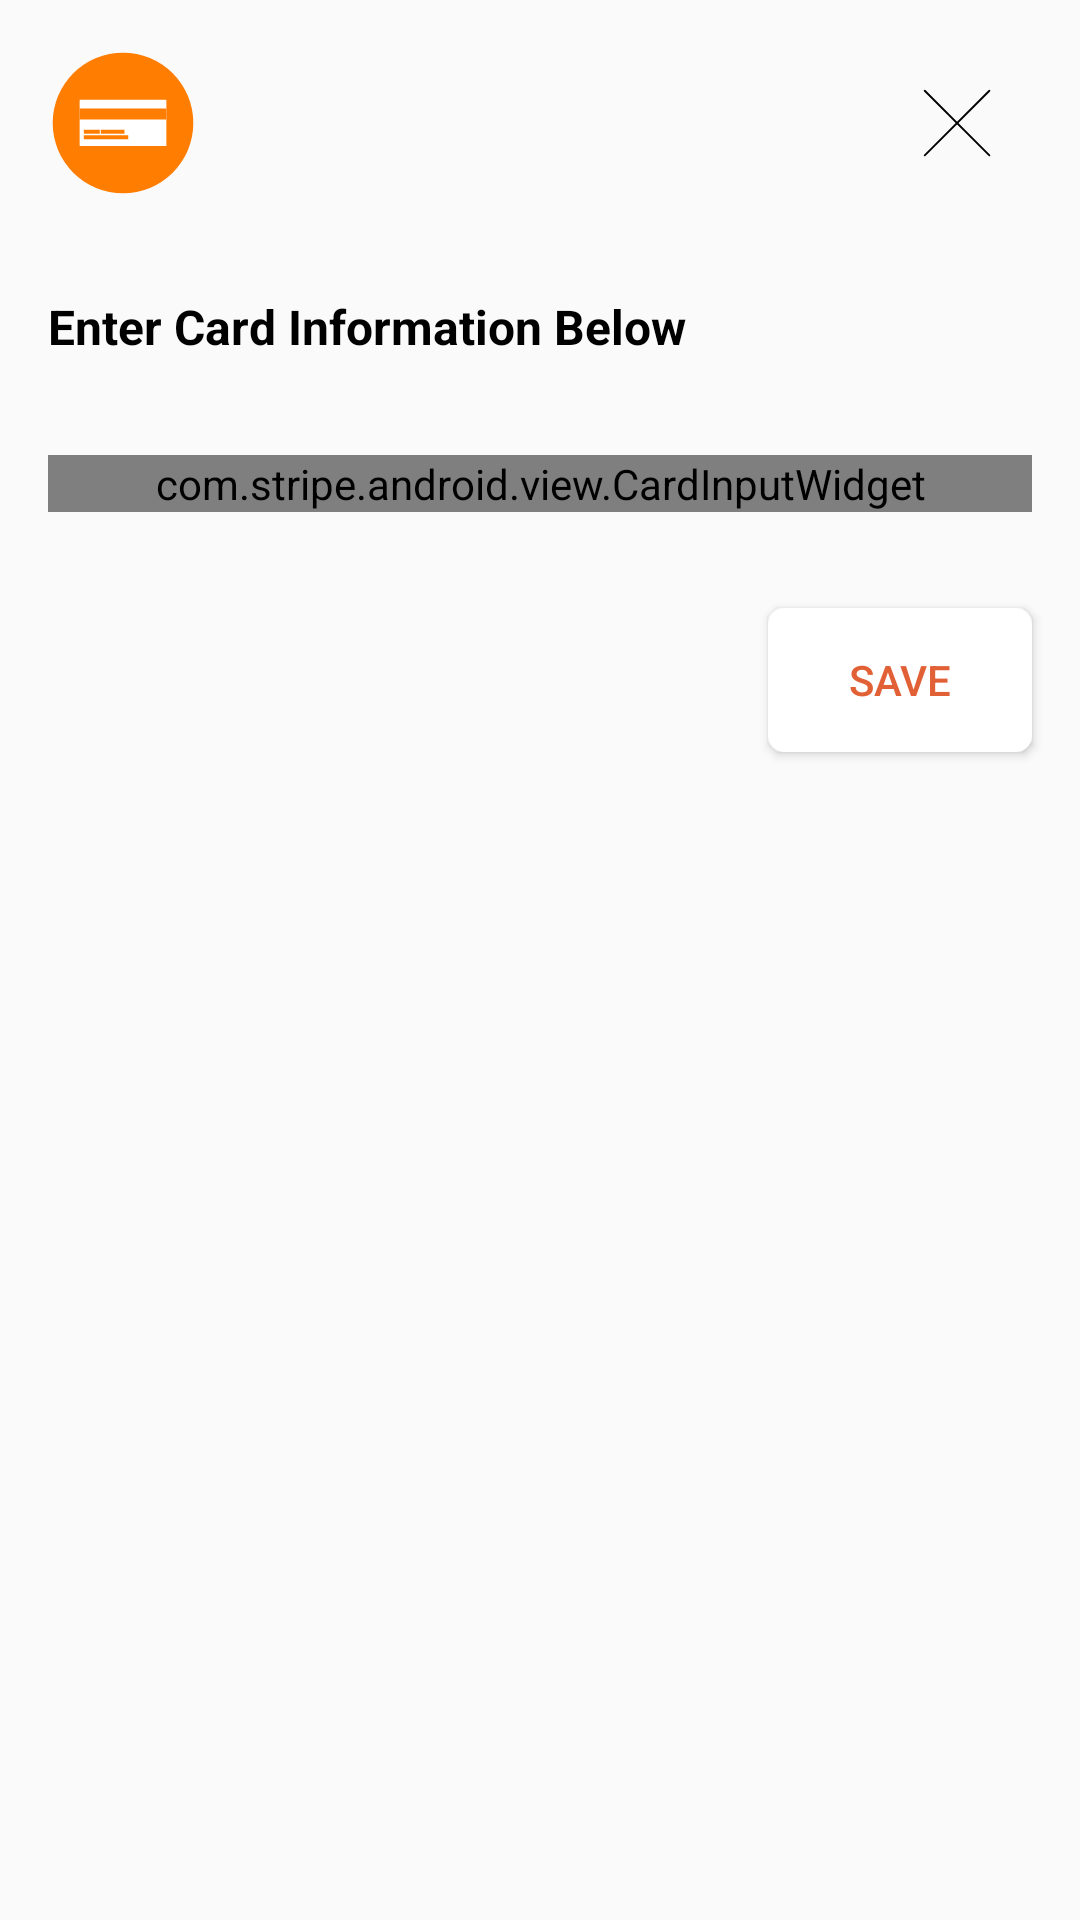

Icon click points for this 1080×1920 phone screenshot, format (x=x, y=y):
close: (x=957, y=123)
credit card: (x=123, y=123)
